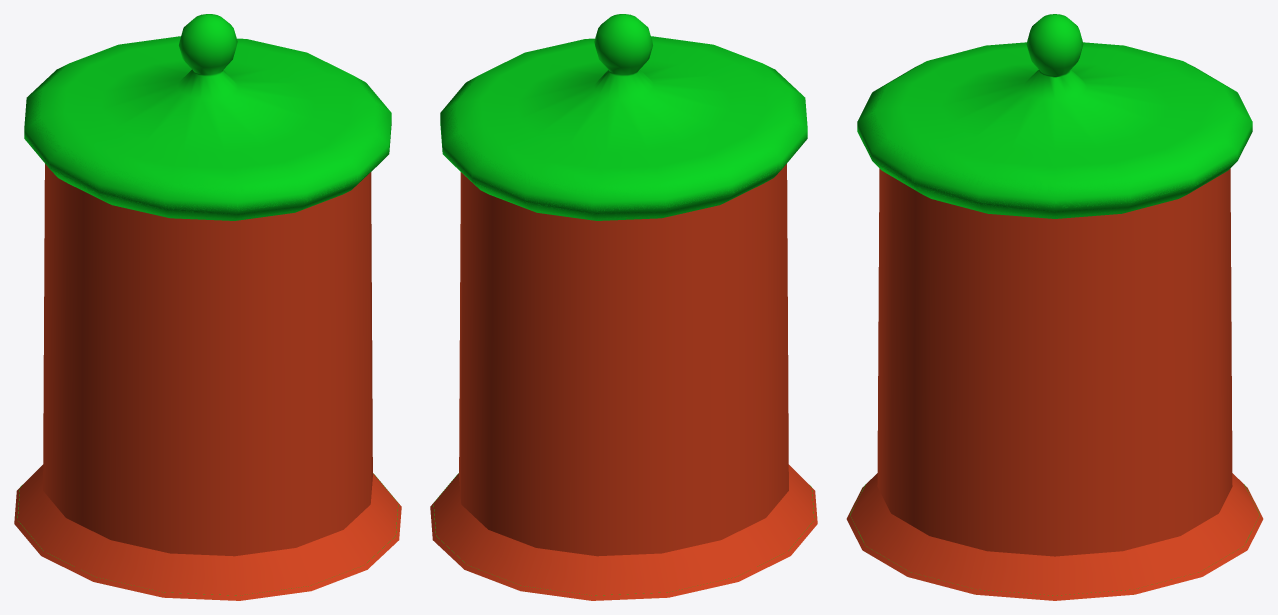
File: Jar with Worm.fbx
3 renders of one model, left to right at view 1: azimuth 30°, elevation 25°; view 2: azimuth 150°, elevation 25°; view 3: azimuth 270°, elevation 25°, orthographic.
Visible parts, largest first — view 1: Cylinder; view 2: Cylinder; view 3: Cylinder.
Boxes of the visible parts, x1,y1,x2,y2 form: Cylinder: [14, 14, 401, 600]; Cylinder: [430, 14, 817, 600]; Cylinder: [846, 14, 1263, 600].
Size of the model in its own units: 52.01 by 74.54 by 55.91.
